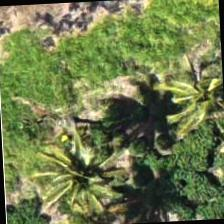Kelapa_Sawit: (38, 127, 132, 222), (164, 52, 223, 147), (49, 165, 144, 223)
